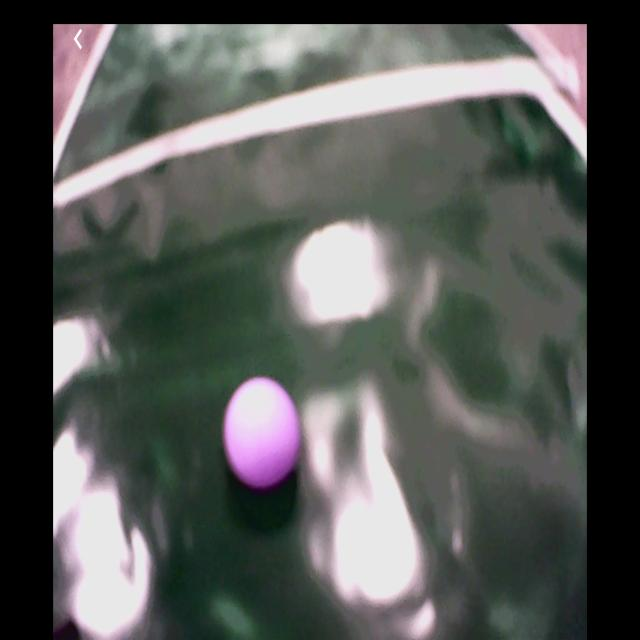ball: (222, 375, 303, 491)
